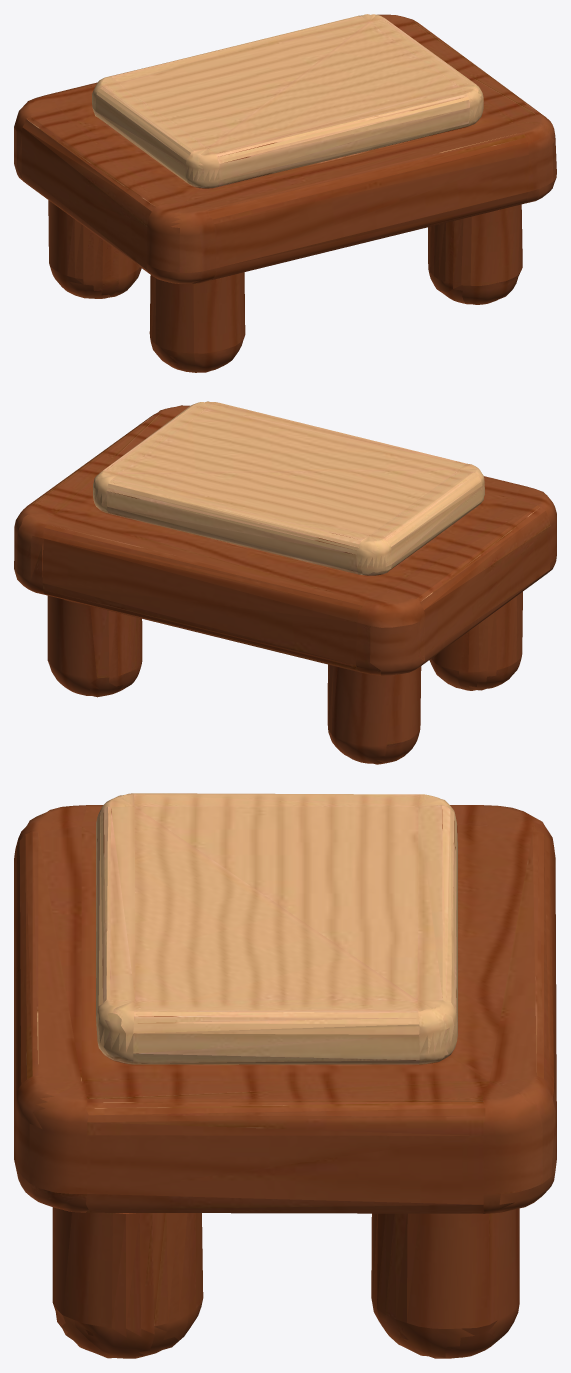
The model's file is la_mesa_chef.glb.
3 renders of one model, top to bottom at view 1: azimuth 30°, elevation 25°; view 2: azimuth 150°, elevation 25°; view 3: azimuth 270°, elevation 25°, orthographic. The views are drawn at different scales.
Size of the model in its own units: 1 by 0.5078 by 0.7383.
1 material, 1 textured.
